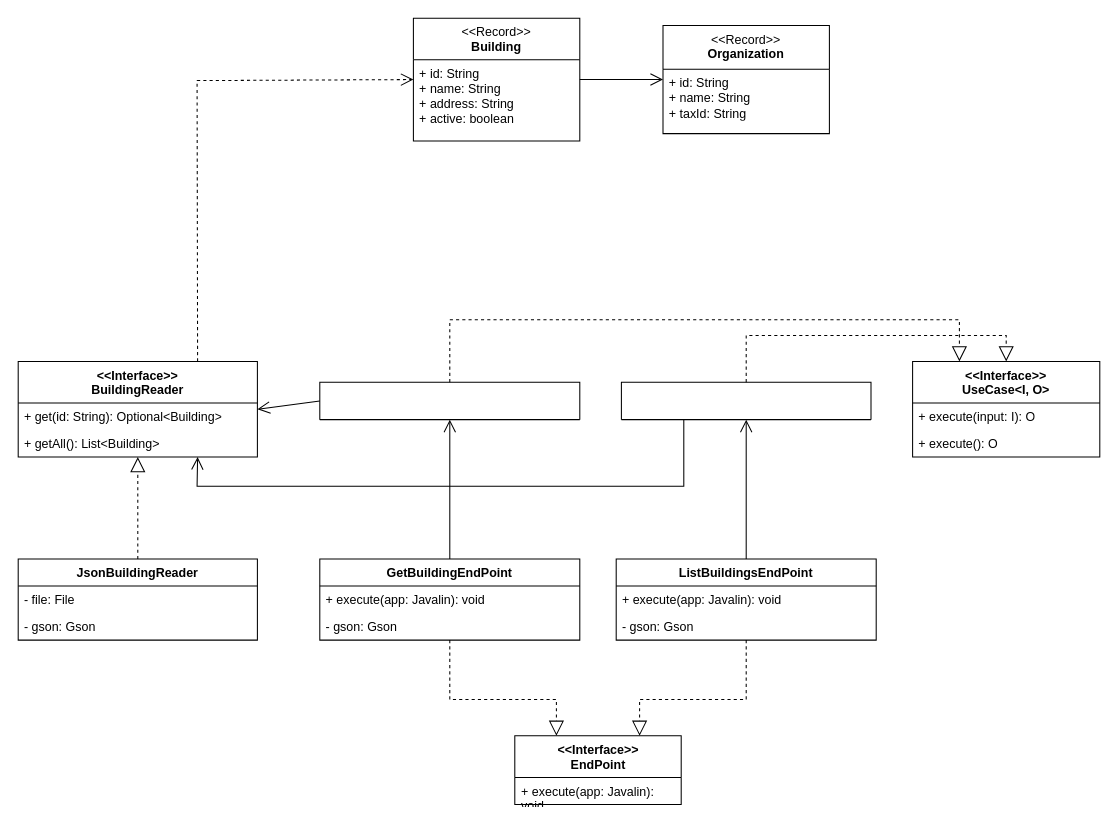
The diagram is 1118 pixels wide and 831 high, and some of its shapes have lost their labels. Here are the shapes that lost their labels. From the top down, the centre of each, then its label:
At point 449,400: "GetBuildingUseCase".
At point 745,400: "ListBuildingsUseCase".
